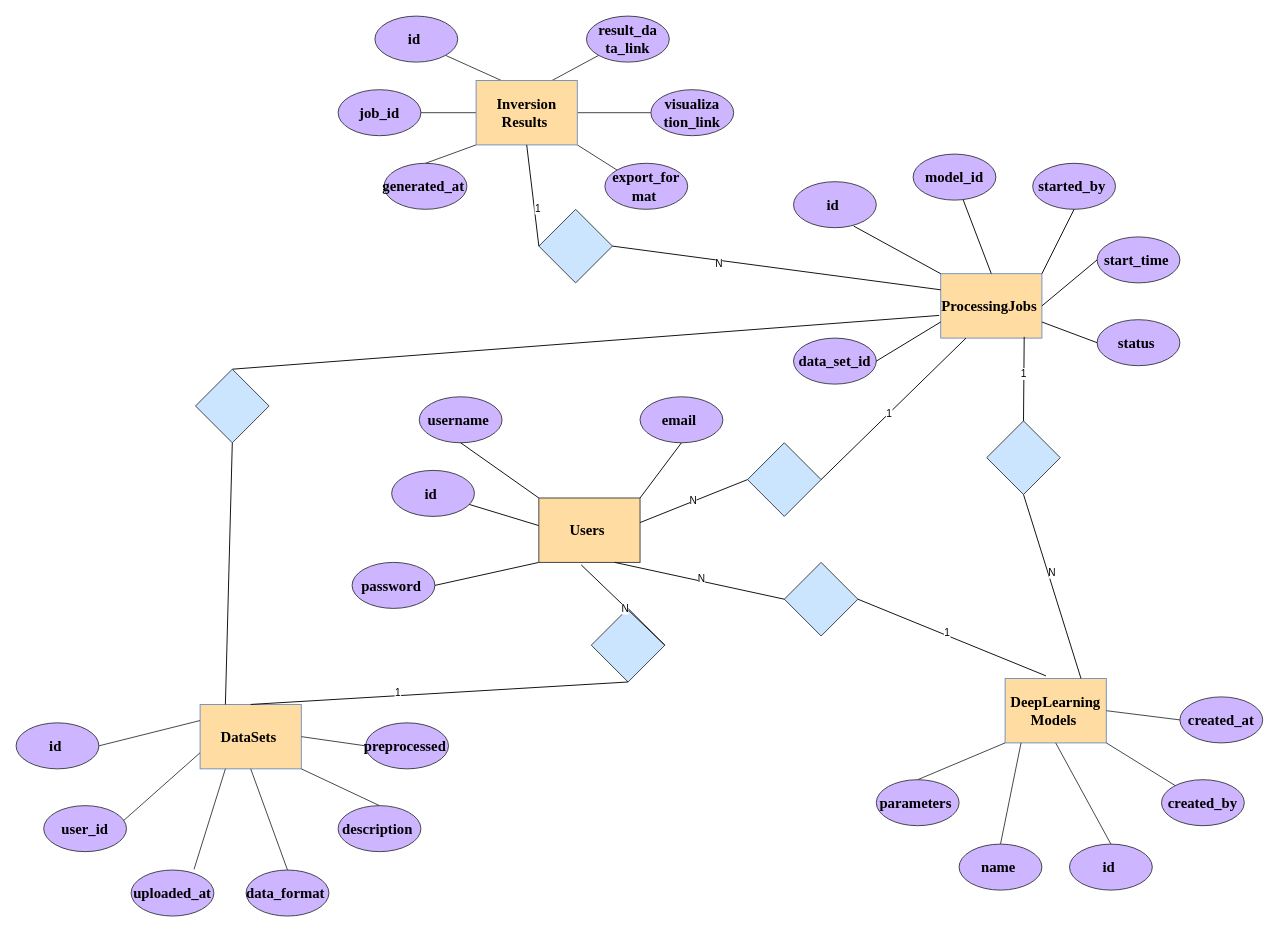
Some shapes in this 1279 by 933 pixel diagram are drawn without their labels. Here are the shapes that lost their labels. From the top down, the centre of each, then its label:
At (575,245): "产生".
At (232,405): "使用".
At (1023,457): "应用".
At (784,479): "启动".
At (820,598): "创建".
At (627,644): "上传".
